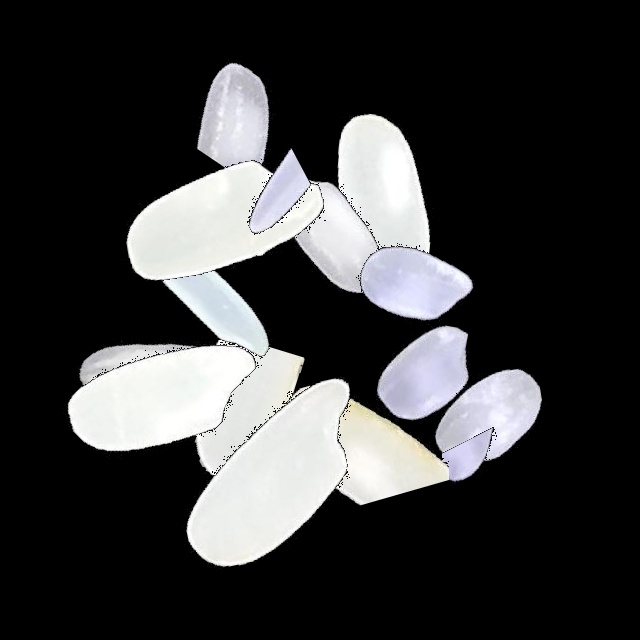Broken: (277, 289, 449, 539), (112, 340, 362, 506), (130, 15, 380, 171), (120, 126, 370, 242), (442, 359, 543, 609)
Full: (259, 79, 509, 329), (301, 246, 551, 496), (28, 249, 278, 499), (364, 292, 614, 542), (203, 108, 453, 358), (286, 159, 536, 409), (37, 270, 287, 520), (80, 164, 330, 414), (98, 94, 348, 344), (145, 351, 395, 601)
